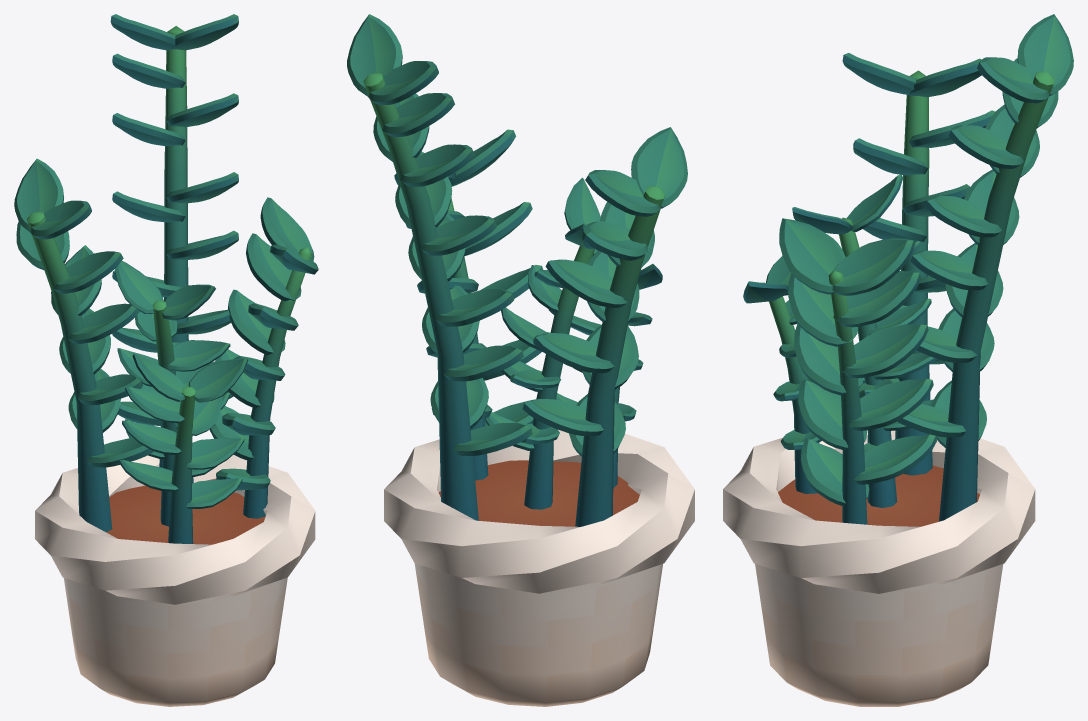
The model's file is zzplant_plant_large_potted.fbx.
3 renders of one model, left to right at view 1: azimuth 30°, elevation 25°; view 2: azimuth 150°, elevation 25°; view 3: azimuth 270°, elevation 25°, orthographic. The views are drawn at different scales.
Parts seen in each view (by area): view 1: zzplant_plant_large_potted; view 2: zzplant_plant_large_potted; view 3: zzplant_plant_large_potted.
Boxes of the visible parts, x1,y1,x2,y2 form: zzplant_plant_large_potted: (14,14,318,706); zzplant_plant_large_potted: (347,14,694,706); zzplant_plant_large_potted: (723,14,1073,706).
Size of the model in its own units: 158 by 342 by 164.
Materials: 1 (1 with a texture image).
